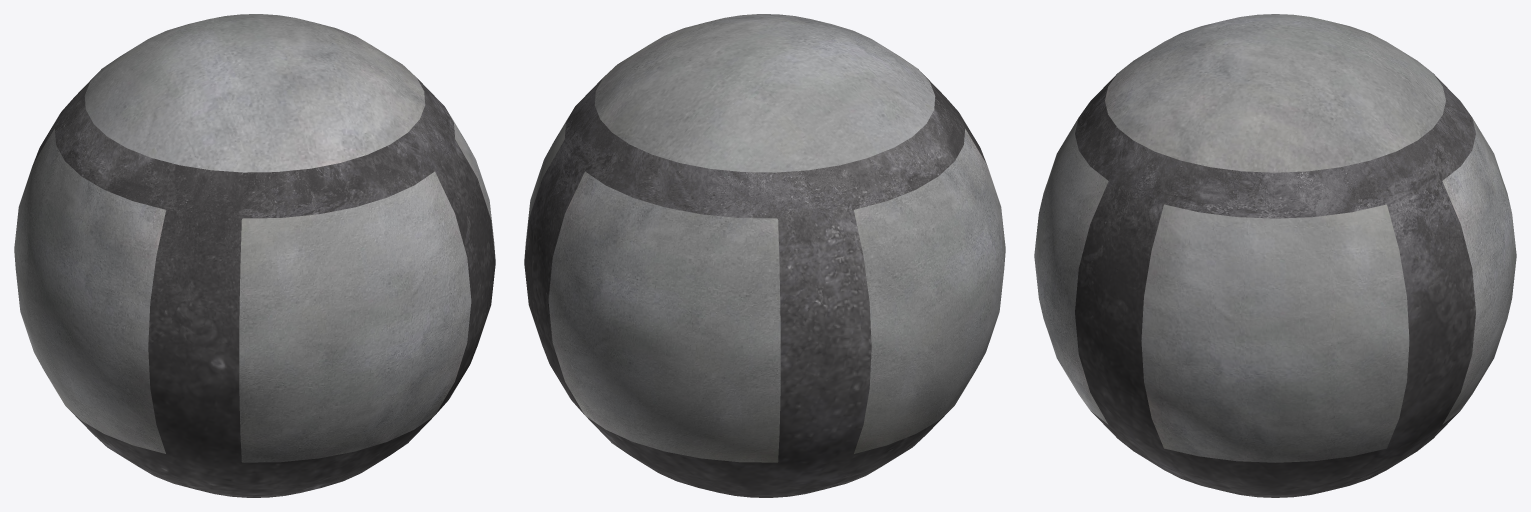
The model's file is makred_sphere.fbx.
3 renders of one model, left to right at view 1: azimuth 30°, elevation 25°; view 2: azimuth 150°, elevation 25°; view 3: azimuth 270°, elevation 25°, orthographic.
Parts seen in each view (by area): view 1: Sphere; view 2: Sphere; view 3: Sphere.
Part boxes in pixels (x1,y1,x2,y2): Sphere: (14,14,495,497); Sphere: (524,14,1005,497); Sphere: (1034,14,1516,497).
Size of the model in its own units: 198 by 198 by 198.
